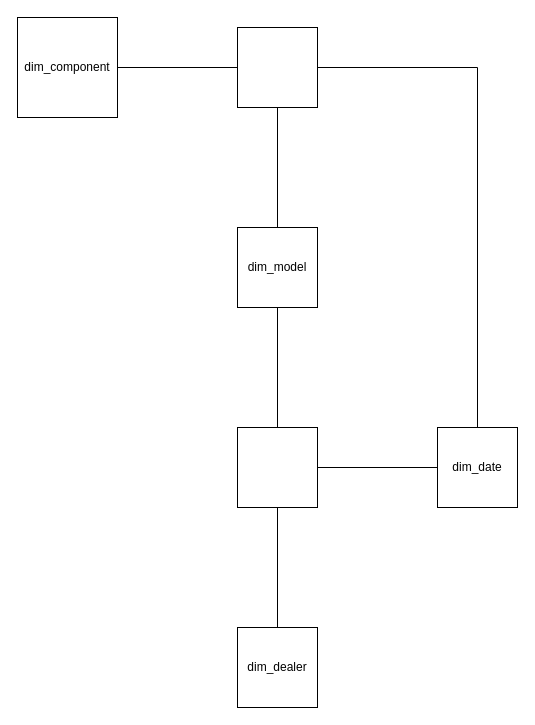
Some shapes in this 535 by 725 pixel diagram are drawn without their labels. Here are the shapes that lost their labels. From the top down, the centre of each, then its label:
At point (277, 67): "fct_campaign".
At point (277, 467): "fct_sale".
